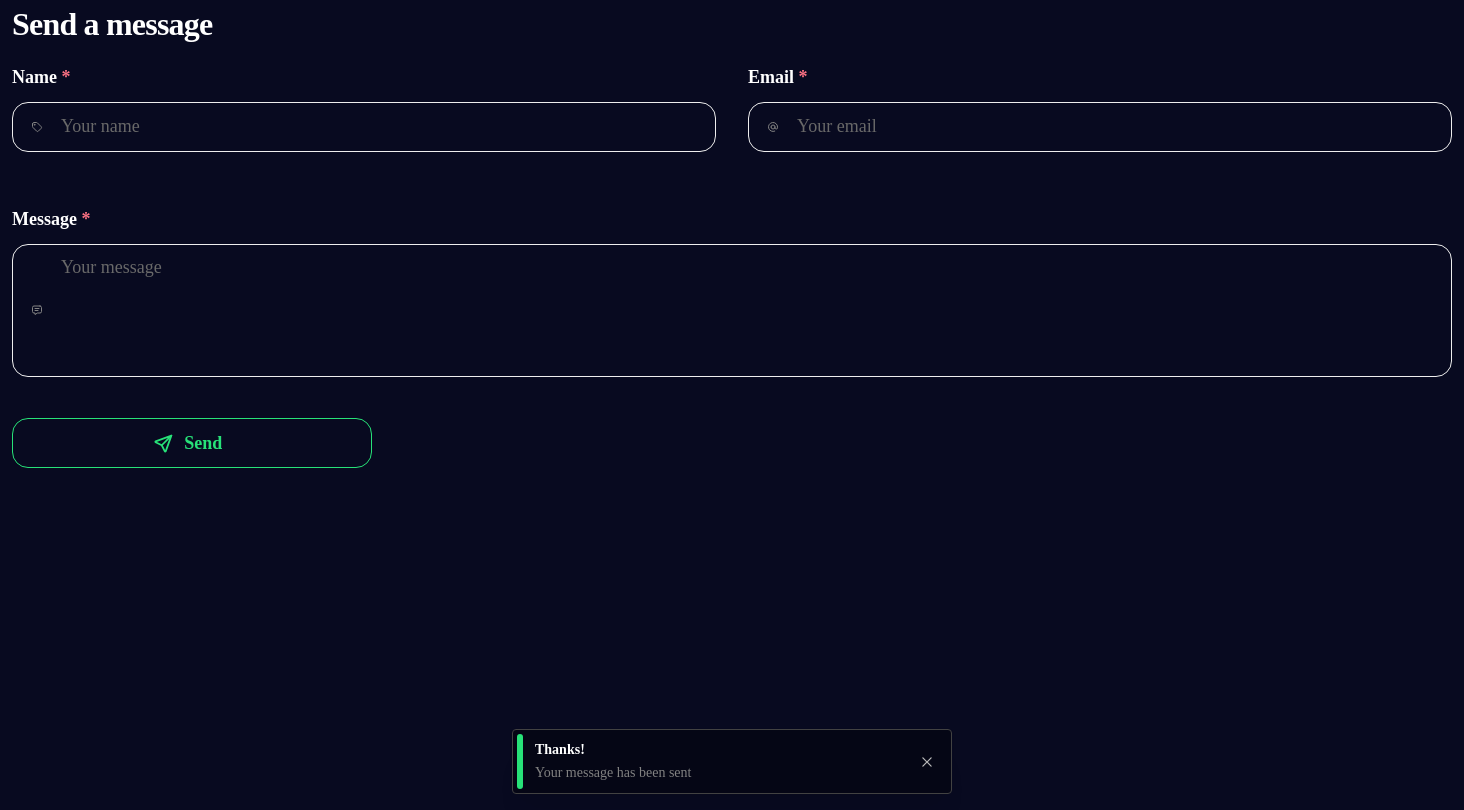
Test: ContactForm › shows an error notification when the API returns a validation error
The width and height of the screenshot is (1464, 810).
In the field labelled "Name *": (364, 127) [12,102,716,152], type "Jane"
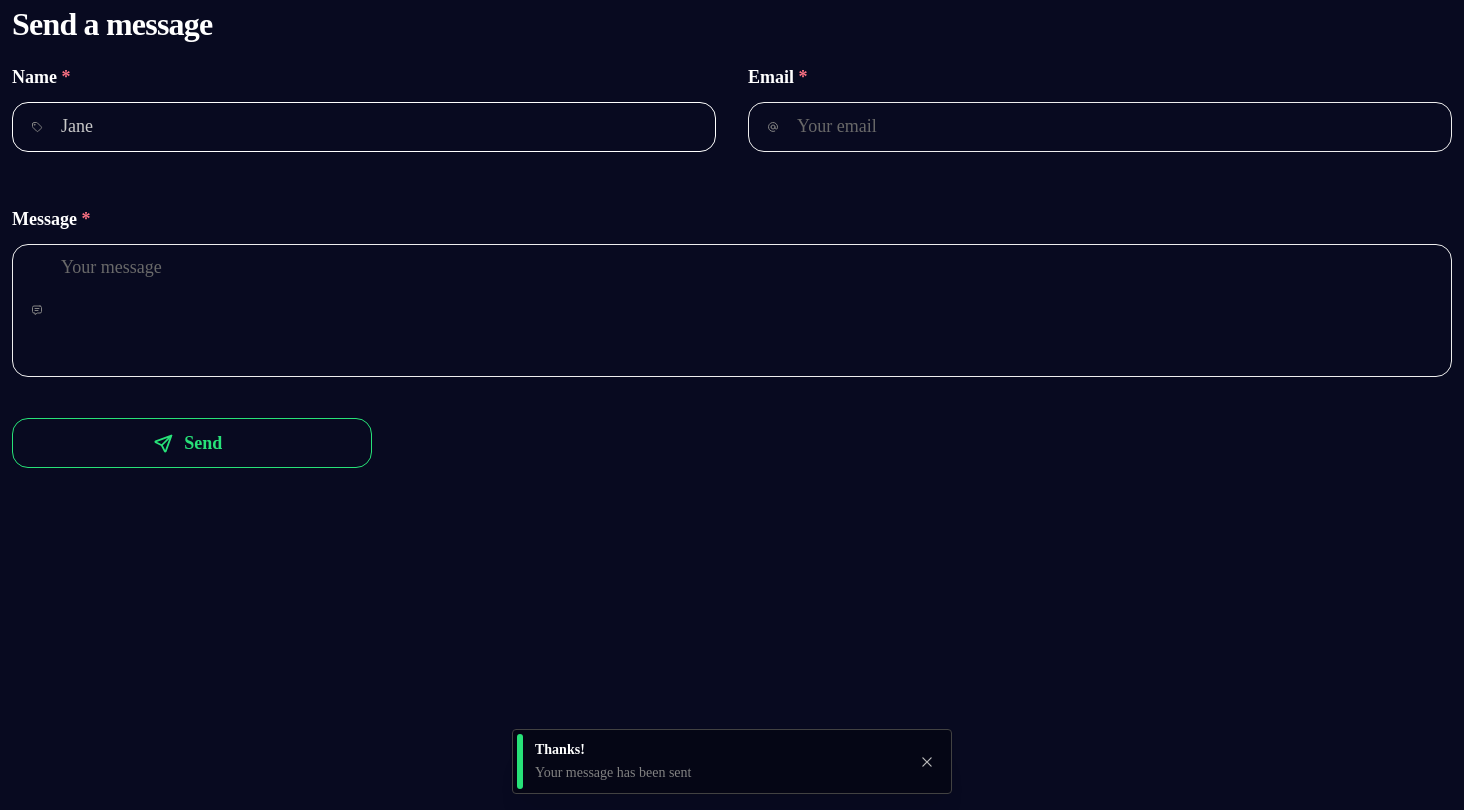
In the field labelled "Email *": (1100, 127) [748,102,1452,152], type "jane@example.com"
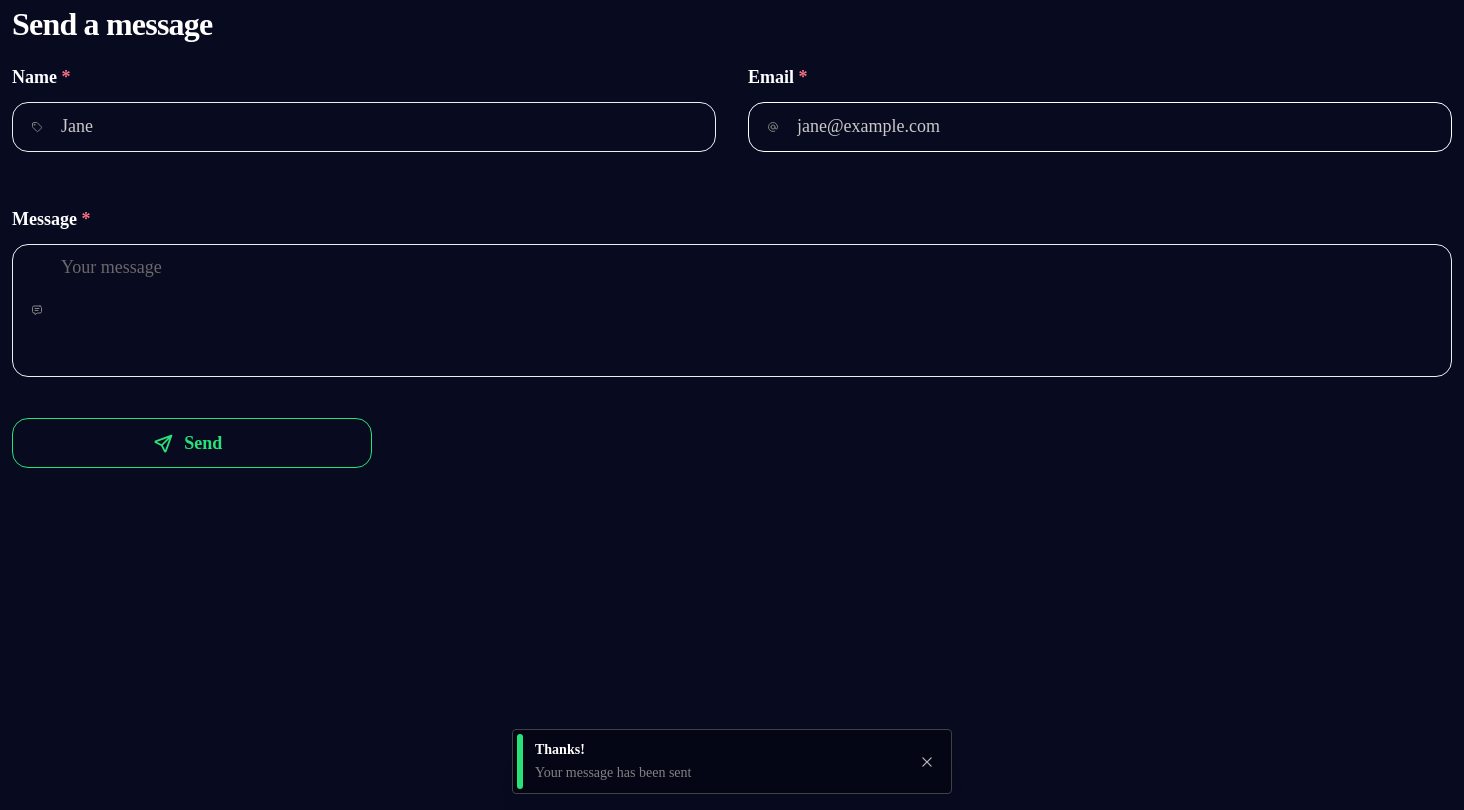
In the text box labelled "Message *": (732, 310) [12,244,1452,377], type "Hello there!"
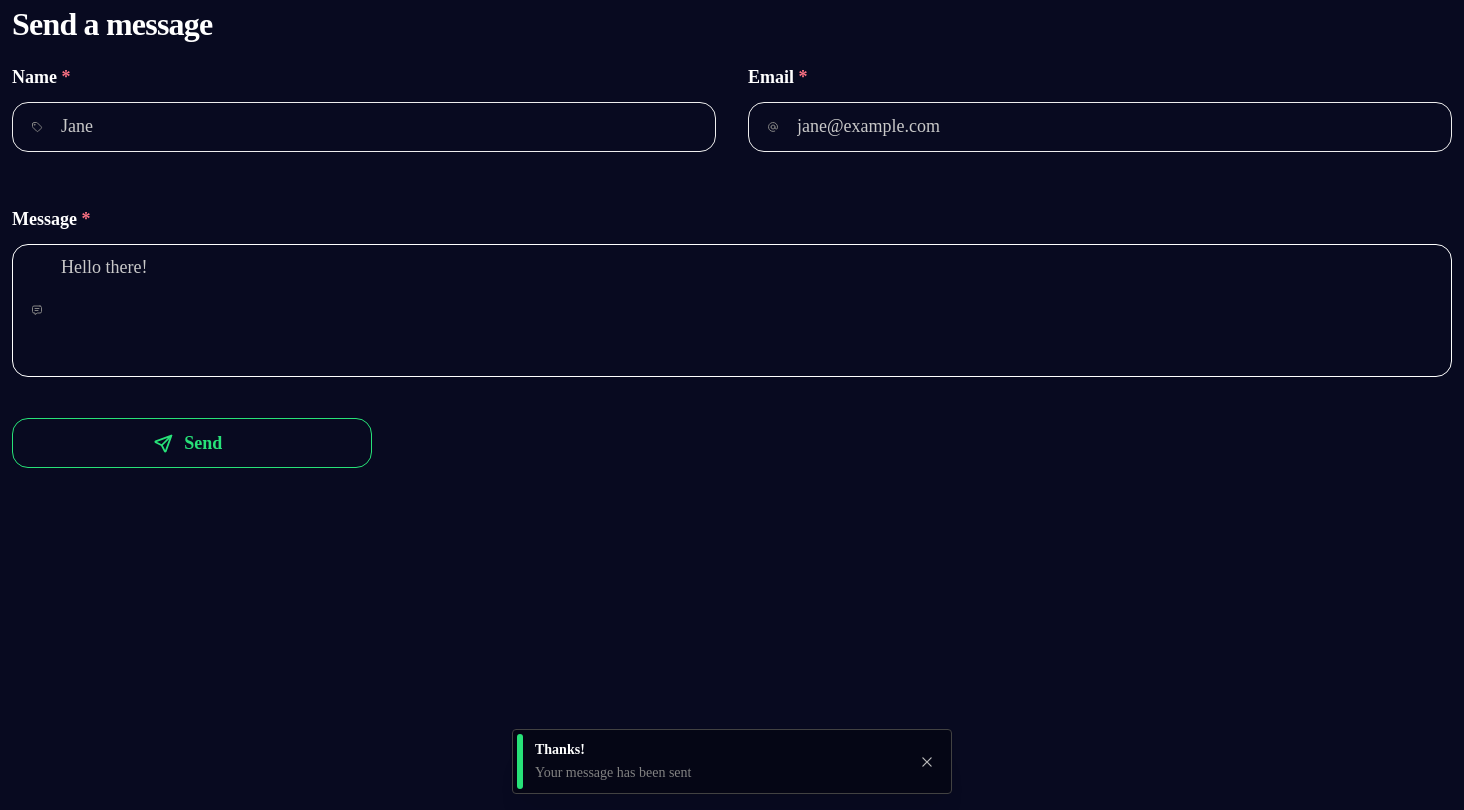
Click the button "Send": (192, 443) [12,418,372,468]
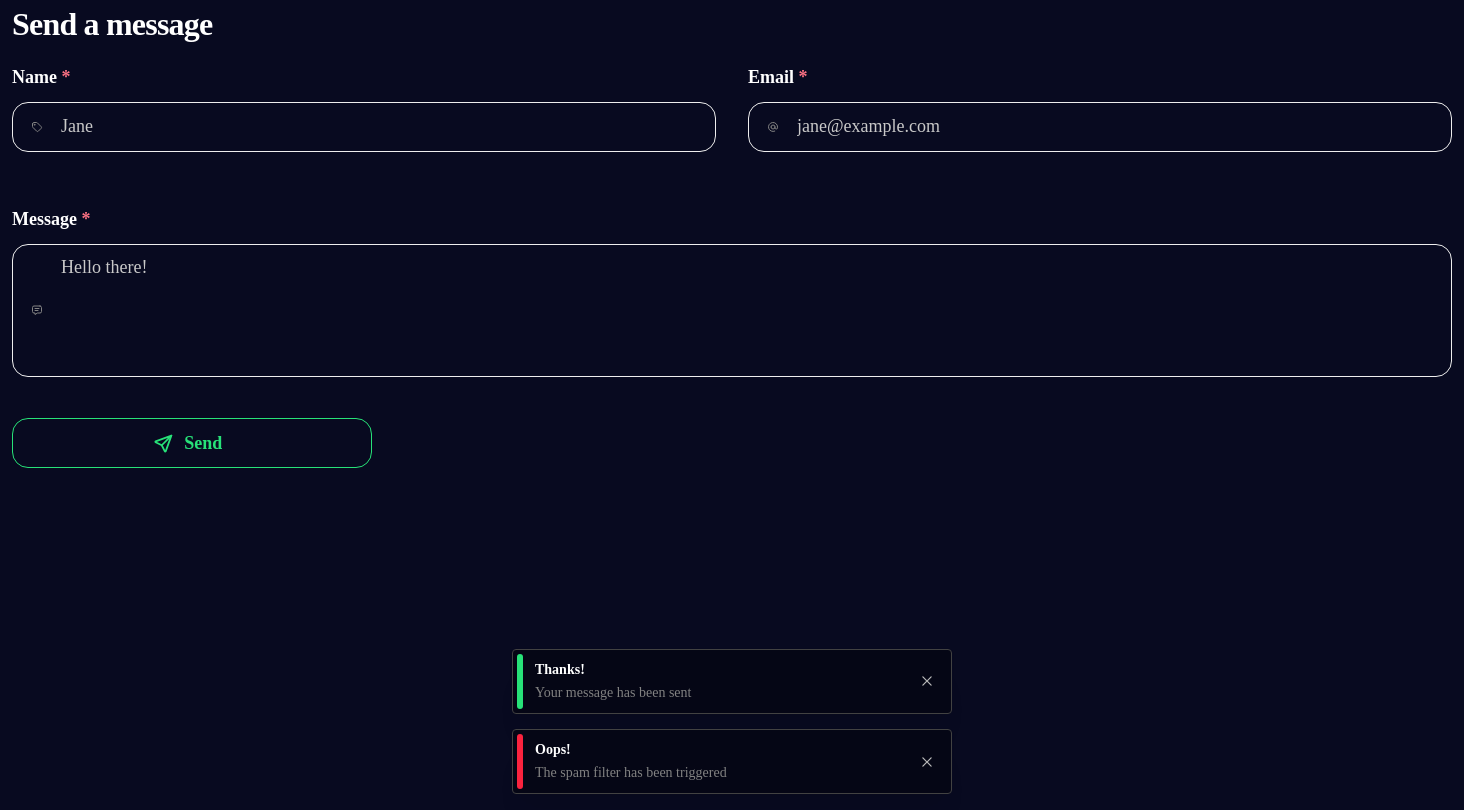
Check: the text "The spam filter has been triggered" is shown, box [535,765,727,780]
